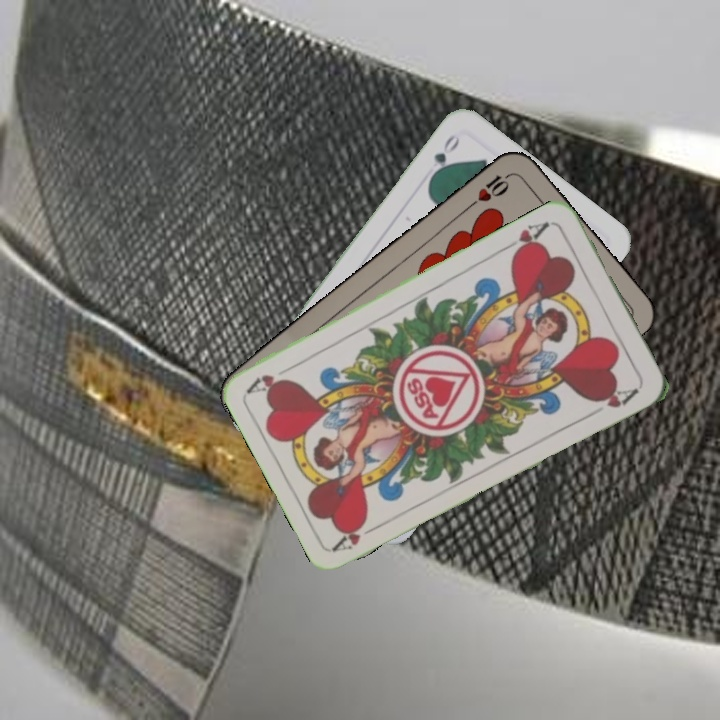GO: (426, 130, 463, 182)
H10: (465, 169, 515, 211)
HA: (499, 217, 553, 260), (330, 519, 386, 554)
